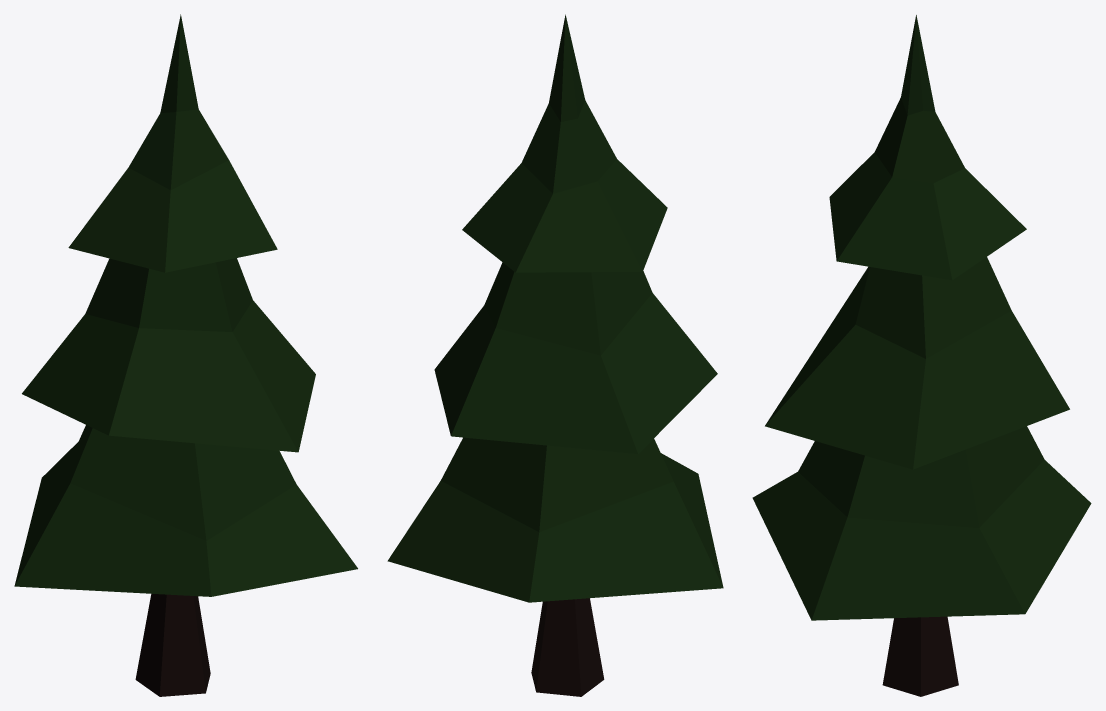
The model's file is Sapin.FBX.
The picture shows the model from 3 angles, left to right: view 1: azimuth 30°, elevation 25°; view 2: azimuth 150°, elevation 25°; view 3: azimuth 270°, elevation 25°; orthographic projection.
Parts seen in each view (by area): view 1: Sapin; view 2: Sapin; view 3: Sapin.
Part boxes in pixels (x1,y1,x2,y2): Sapin: [14, 14, 357, 696]; Sapin: [387, 14, 723, 696]; Sapin: [752, 15, 1091, 696].
Bounding box in the file's own units: 256 × 552 × 254.
